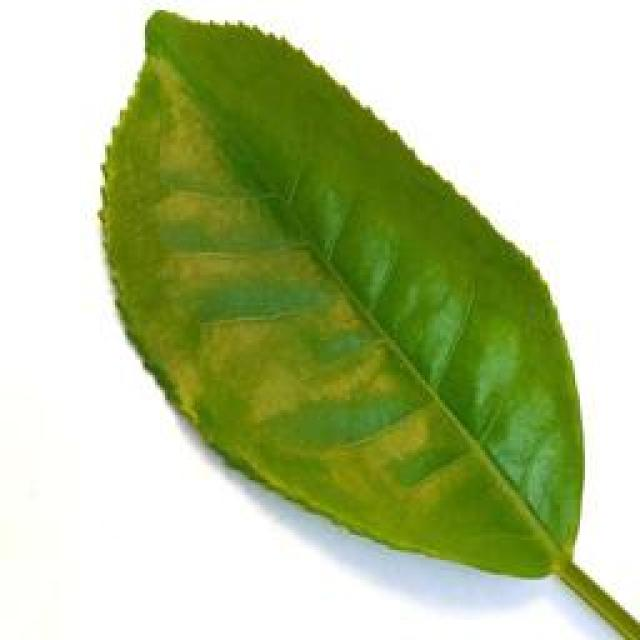Healthy: (97, 0, 616, 605)
